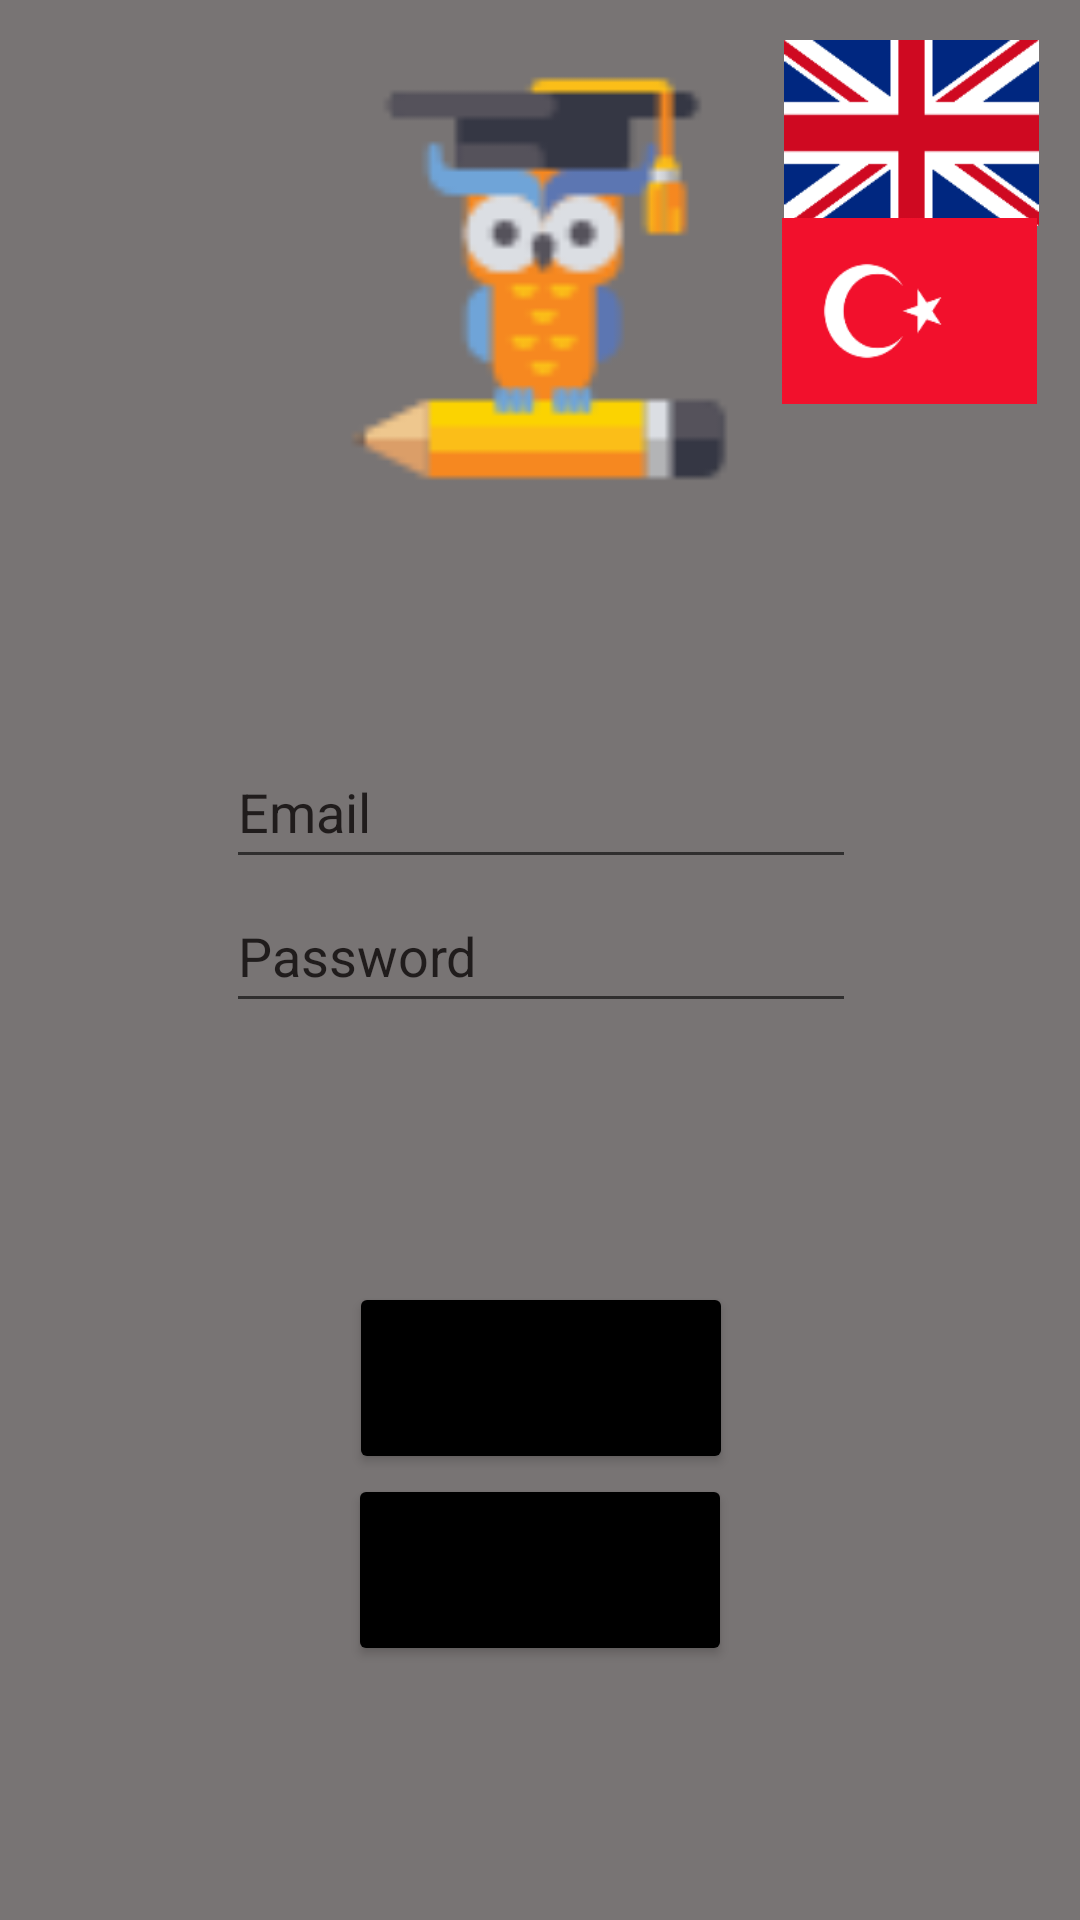

Point at icon controls on the screen. Image size 1080×1920, points as (x,y).
loginenglish: (911,133)
loginturkish: (909,311)
